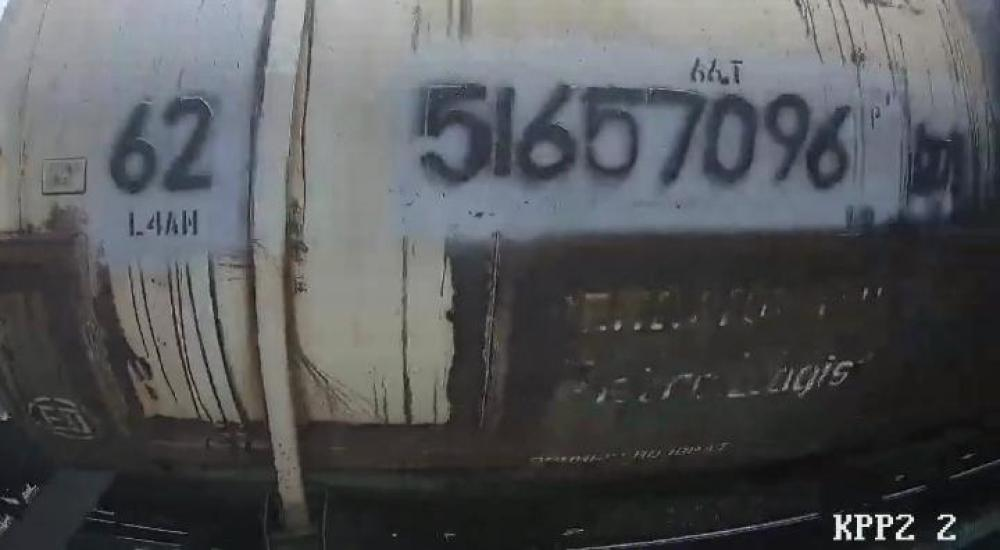Wagon-number: (416, 72, 858, 200)
